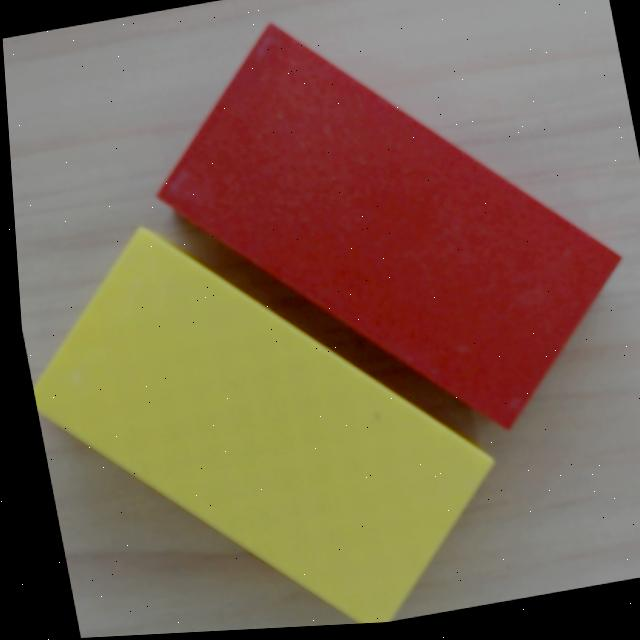Balok-Kuning-1005025: (22, 221, 498, 635)
Balok-Merah-1005025: (153, 22, 622, 431)
